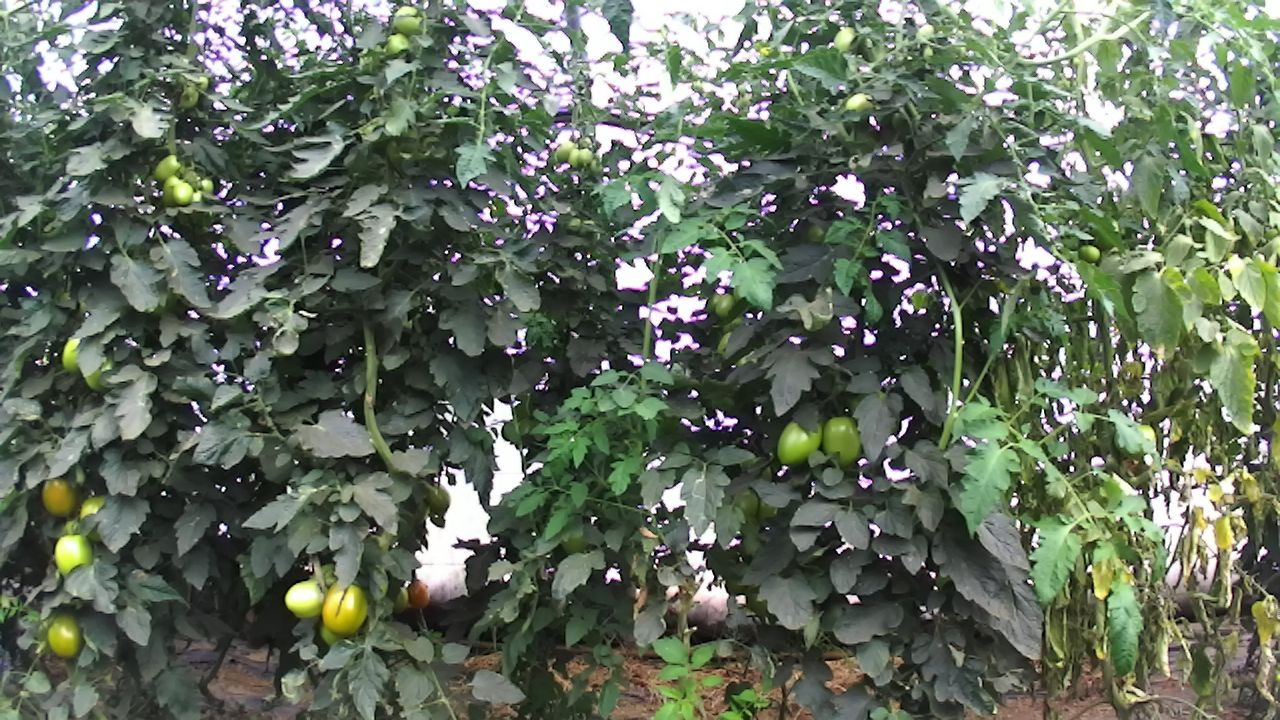tomato: (775, 410, 823, 469), (321, 577, 368, 637), (821, 415, 864, 468), (51, 532, 95, 581), (45, 610, 84, 660), (282, 578, 324, 620), (40, 475, 78, 516), (151, 153, 181, 182), (405, 577, 430, 611), (712, 291, 737, 320), (171, 181, 194, 207)
